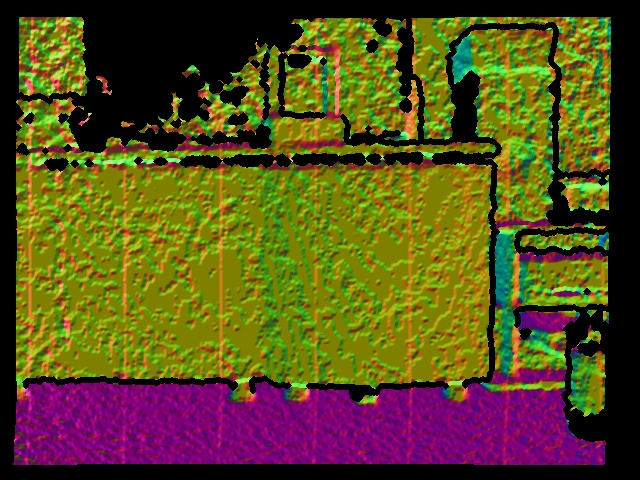station: (260, 43, 349, 146)
